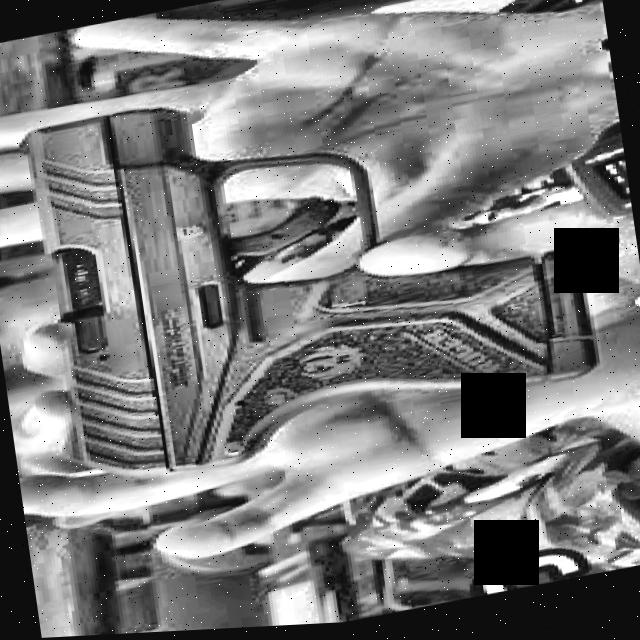Ruger: (14, 28, 627, 500)
